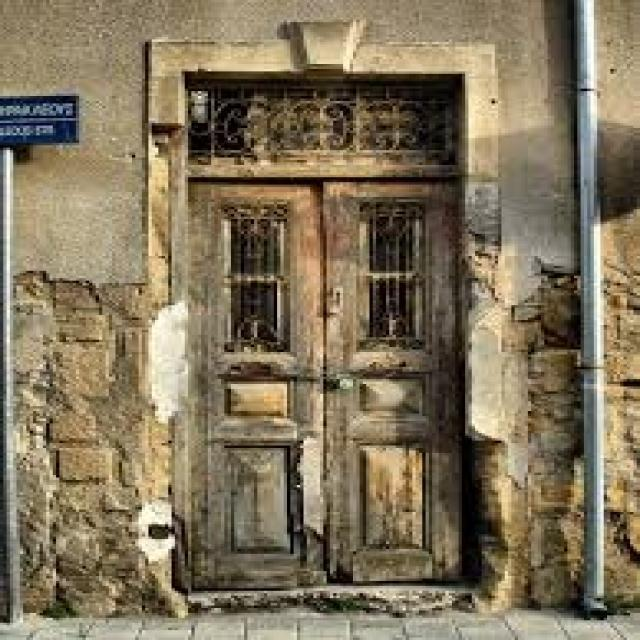door: (181, 75, 473, 597)
